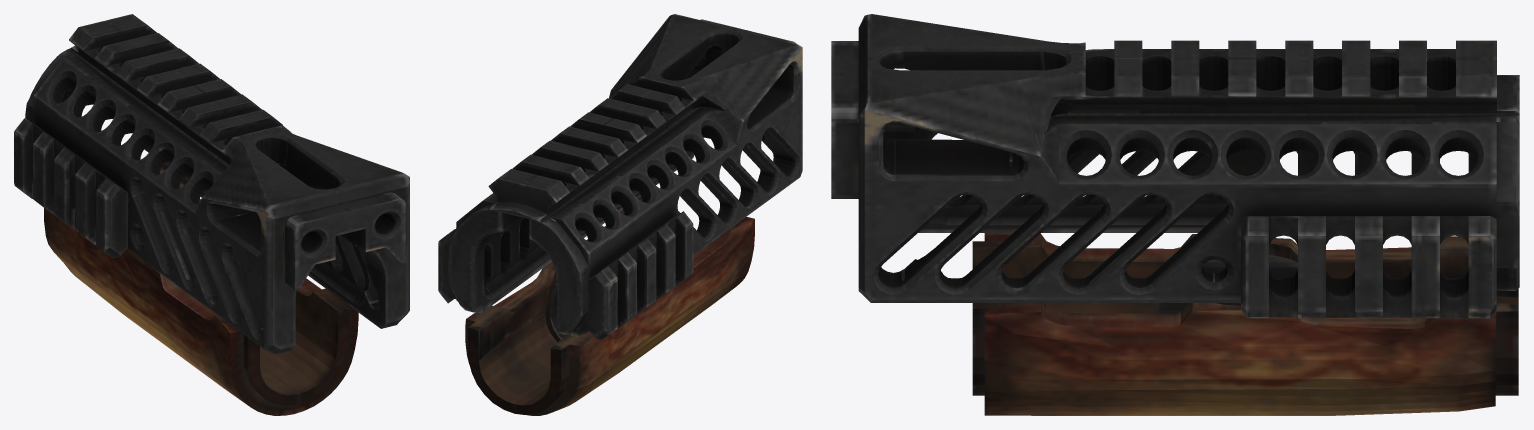
3 renders of one model, left to right at view 1: azimuth 30°, elevation 25°; view 2: azimuth 150°, elevation 25°; view 3: azimuth 270°, elevation 25°, orthographic. The views are drawn at different scales.
Parts seen in each view (by area): view 1: TW_57ffa9f4245977728561e844_PZ_Import; view 2: TW_57ffa9f4245977728561e844_PZ_Import; view 3: TW_57ffa9f4245977728561e844_PZ_Import.
Part boxes in pixels (left/top/right/bottom): TW_57ffa9f4245977728561e844_PZ_Import: left=14, top=14, right=409, bottom=415; TW_57ffa9f4245977728561e844_PZ_Import: left=438, top=14, right=802, bottom=415; TW_57ffa9f4245977728561e844_PZ_Import: left=831, top=14, right=1519, bottom=415.
Bounding box in the file's own units: 0.0306 × 0.0722 × 0.0402.
Materials: 1 (1 with a texture image).
